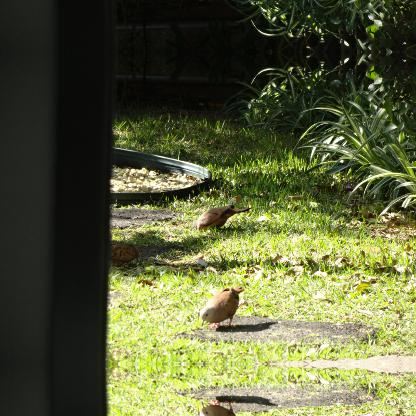Bird: (200, 282, 244, 327), (196, 204, 256, 234), (96, 238, 148, 270), (200, 400, 245, 415)
